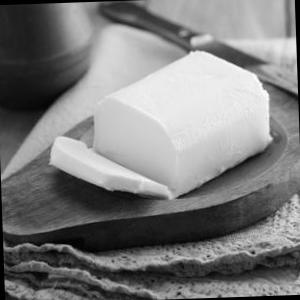butter: (60, 37, 272, 195)
